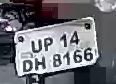1: (57, 32, 68, 48), (63, 49, 72, 65)
4: (69, 30, 80, 45)
6: (83, 45, 95, 64), (72, 48, 82, 66)
8: (52, 52, 63, 69)
D: (21, 59, 33, 73)
H: (33, 56, 46, 72)
P: (43, 36, 55, 53)
U: (29, 38, 42, 55)
